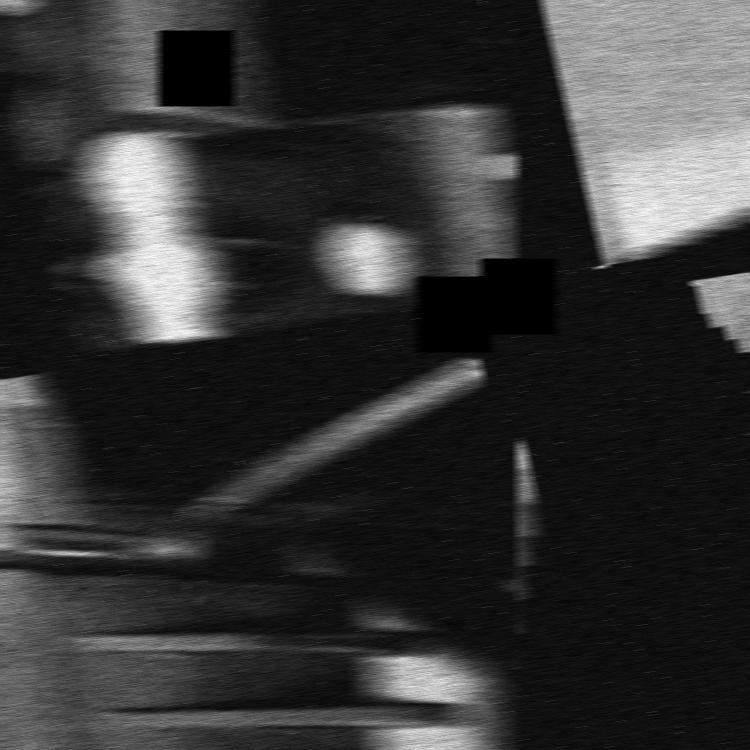Airbag: (0, 352, 518, 750), (0, 0, 518, 352), (539, 0, 750, 264)
